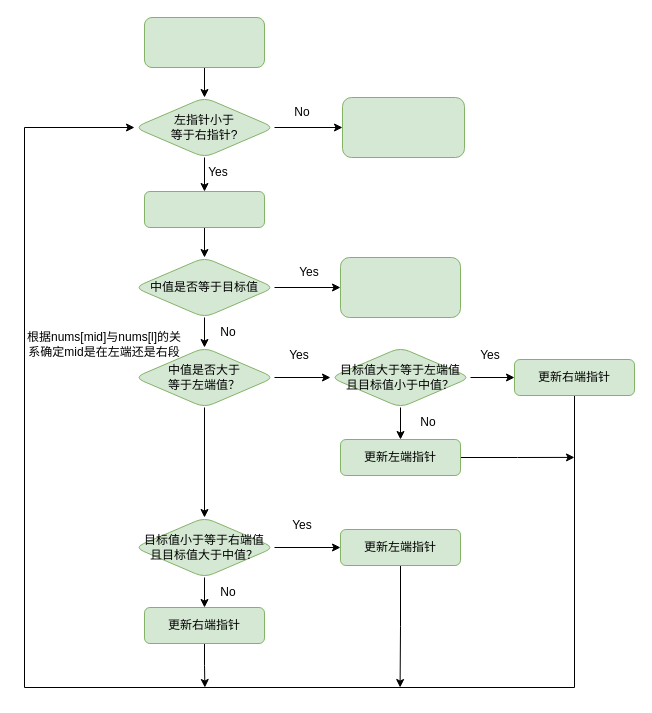
Image size: 652x713. Some labels were removed from this diagram. Each missing label, with the centre of its shape:
初始化左指针，右 指针，中间指针: (204,42)
如果在while循环中没有返回希望的结果，则说明没有目标值，-1: (403,127)
找到目标值了，返回中值指针: (400,287)
更新中值指针: (204,209)
